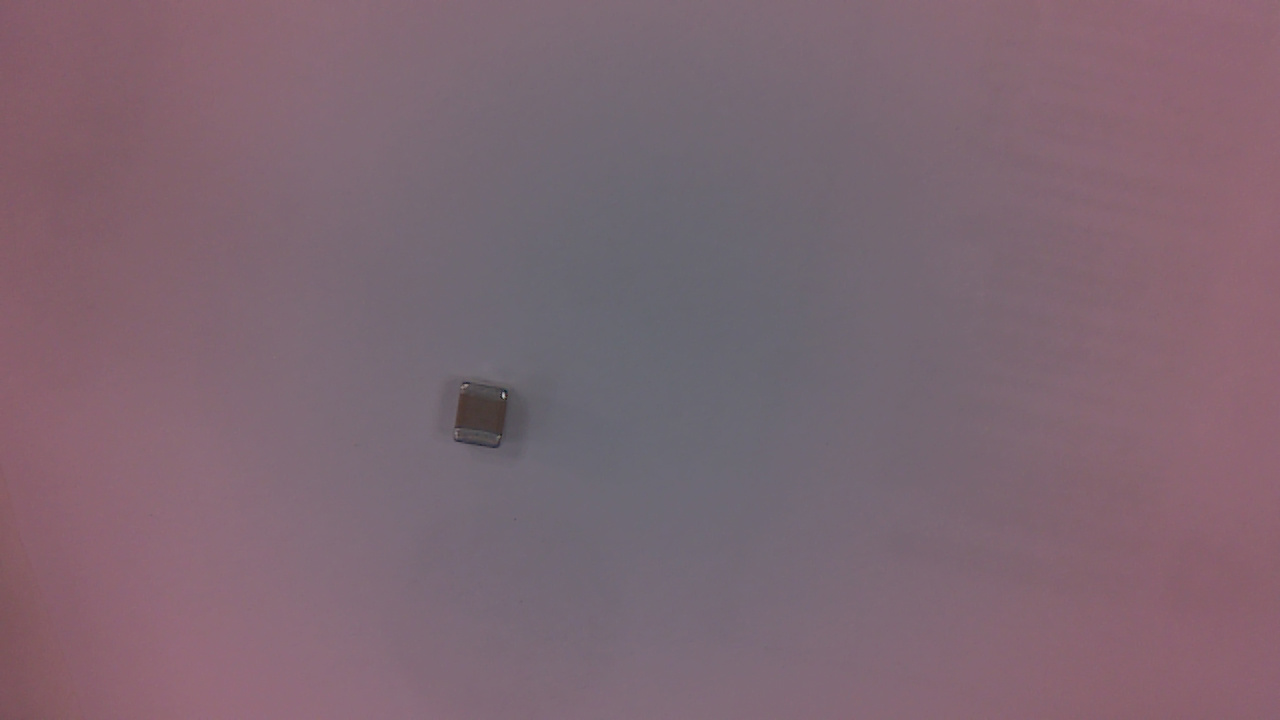Condensator: (454, 388, 517, 456)
